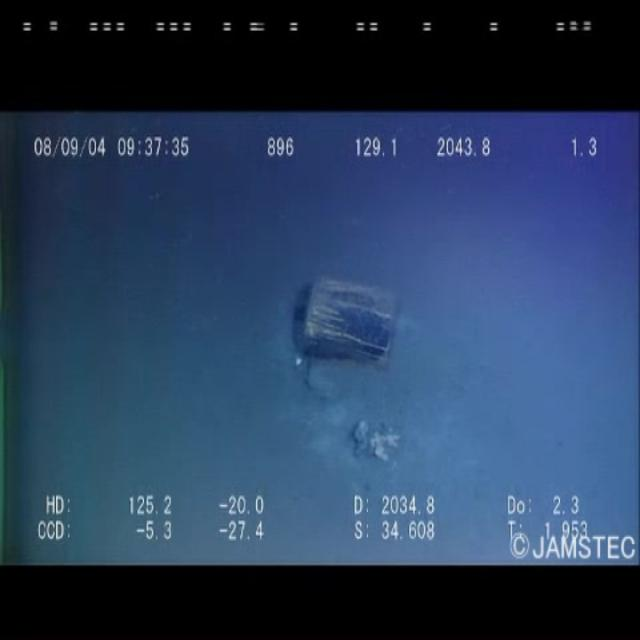Litter: (345, 398, 423, 486)
Metal: (294, 254, 426, 386)
